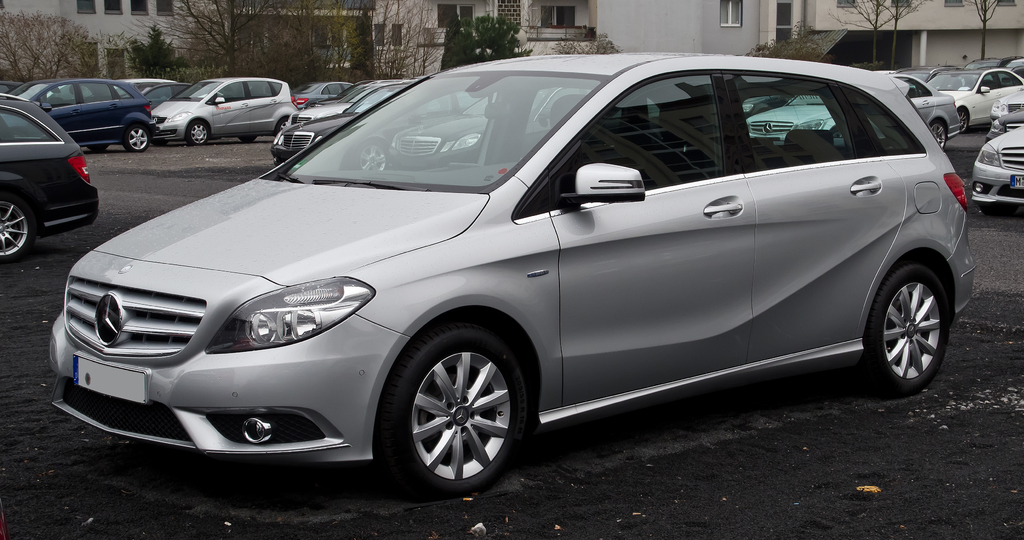Car: (0, 51, 1024, 498)
